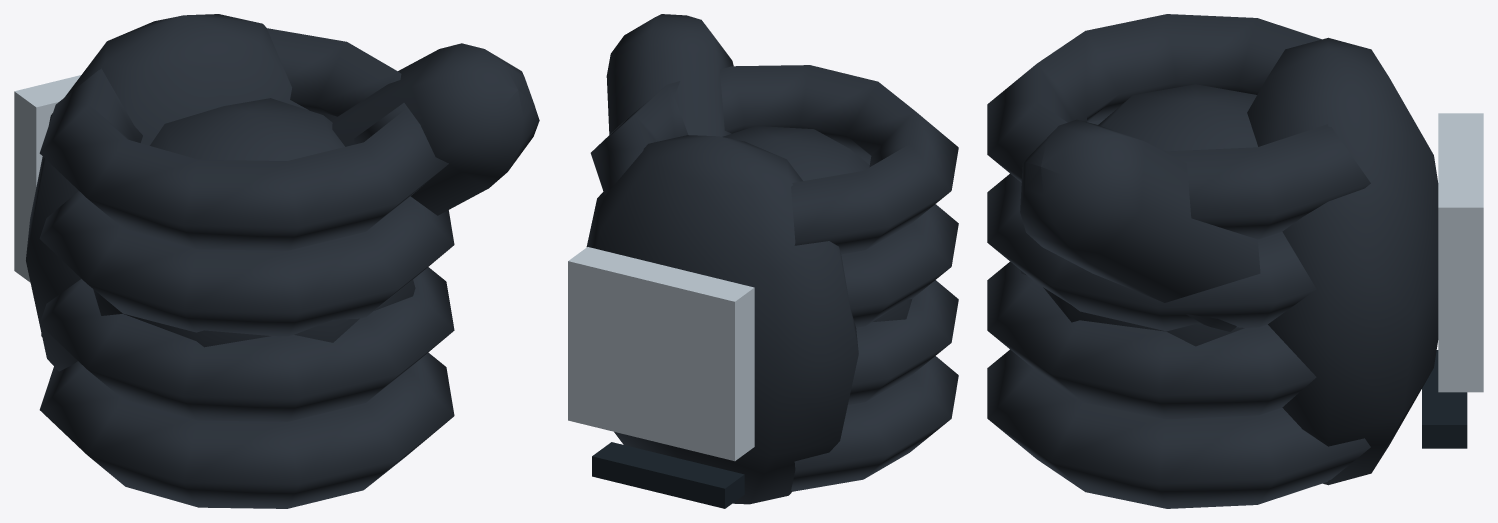
File: grip_hand.glb
The picture shows the model from 3 angles, left to right: view 1: azimuth 30°, elevation 25°; view 2: azimuth 150°, elevation 25°; view 3: azimuth 270°, elevation 25°; orthographic projection. The views are drawn at different scales.
Visible parts, largest first — view 1: m2_ow85_, m0_ow85_; view 2: m2_ow85_, m0_ow85_, m1_ow85_; view 3: m2_ow85_, m0_ow85_, m1_ow85_.
Boxes of the visible parts, box(x1,y1,x2,y2) form: m2_ow85_: box(26, 14, 539, 508); m0_ow85_: box(14, 75, 80, 282); m2_ow85_: box(586, 14, 958, 504); m0_ow85_: box(568, 247, 754, 461); m1_ow85_: box(592, 442, 744, 508); m2_ow85_: box(987, 14, 1438, 508); m0_ow85_: box(1438, 113, 1483, 392); m1_ow85_: box(1422, 350, 1467, 448).
Size of the model in its own units: 0.1482 by 0.1467 by 0.1534.
